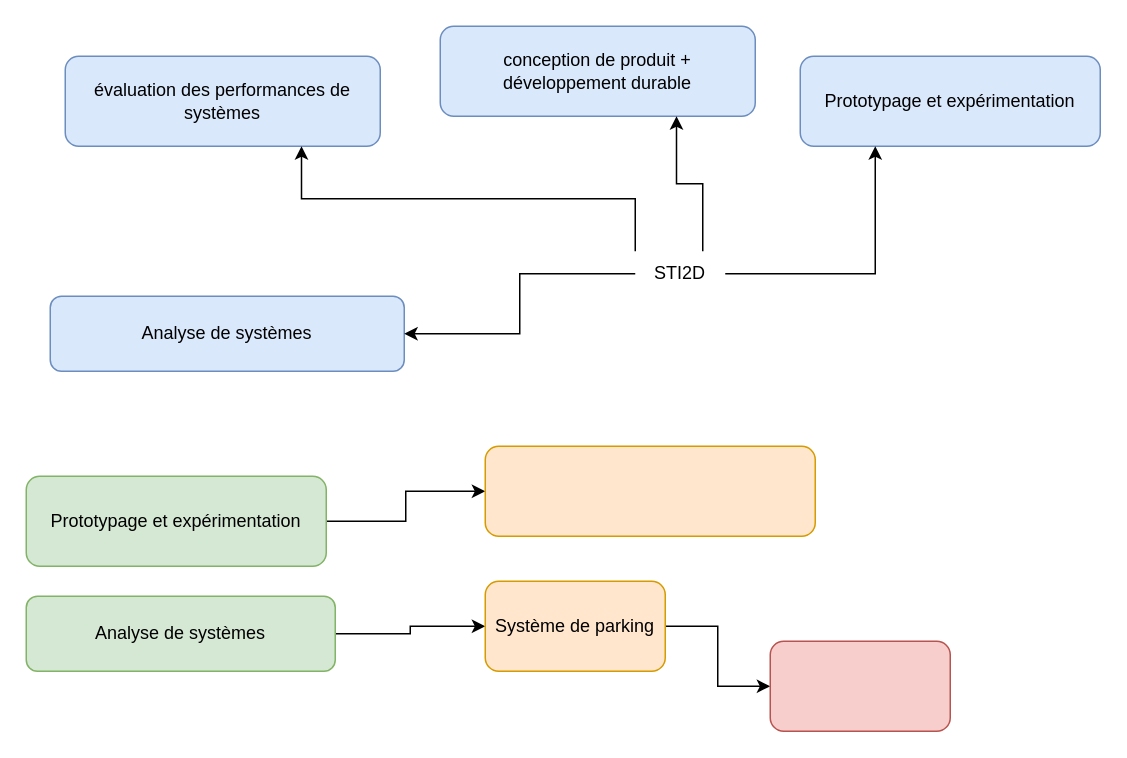
Some shapes in this 1127 by 758 pixel diagram are drawn without their labels. Each missing label, with the centre of its shape:
Format TD: the point at 859,685
Projet fin première, système escape game: the point at 649,490
